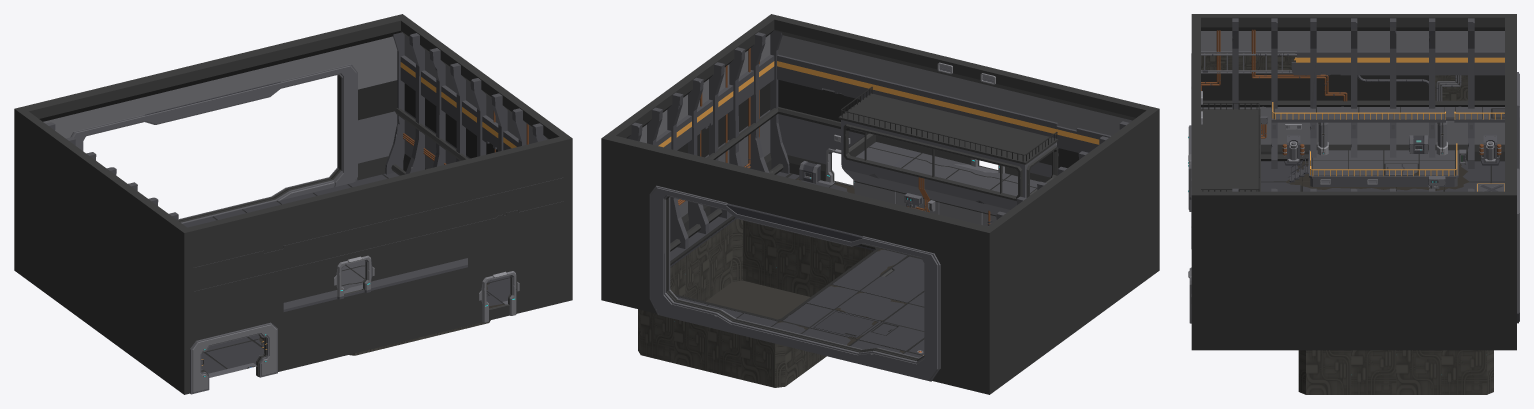
File: bunkerwithoutdoors_untitled.glb
3 renders of one model, left to right at view 1: azimuth 30°, elevation 25°; view 2: azimuth 150°, elevation 25°; view 3: azimuth 270°, elevation 25°, orthographic. The views are drawn at different scales.
Parts seen in each view (by area): view 1: SM_Bld_Hangar_01, SM_Bld_HangerFloor_01; view 2: SM_Bld_Hangar_01, SM_Bld_HangerFloor_01; view 3: SM_Bld_Hangar_01, SM_Bld_HangerFloor_01.
Part boxes in pixels (x1,y1,x2,y2): SM_Bld_Hangar_01: [14, 14, 572, 394]; SM_Bld_HangerFloor_01: [183, 172, 510, 377]; SM_Bld_Hangar_01: [601, 14, 1159, 394]; SM_Bld_HangerFloor_01: [638, 172, 924, 387]; SM_Bld_Hangar_01: [1188, 14, 1519, 350]; SM_Bld_HangerFloor_01: [1261, 143, 1504, 394].
Bounding box in the file's own units: 40.16 × 21.63 × 31.05.
Materials: 1 (1 with a texture image).
